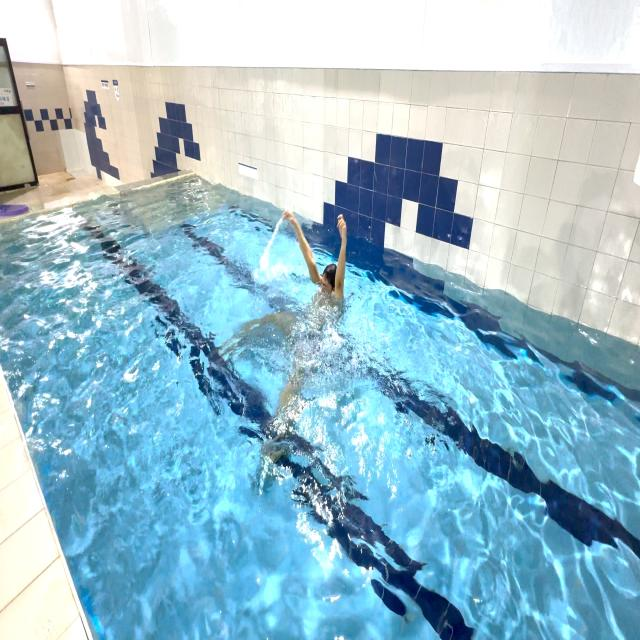Drowning: (259, 172, 368, 429)
